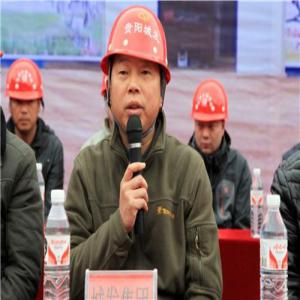red: (97, 4, 173, 137), (3, 56, 46, 134), (191, 77, 230, 153)
